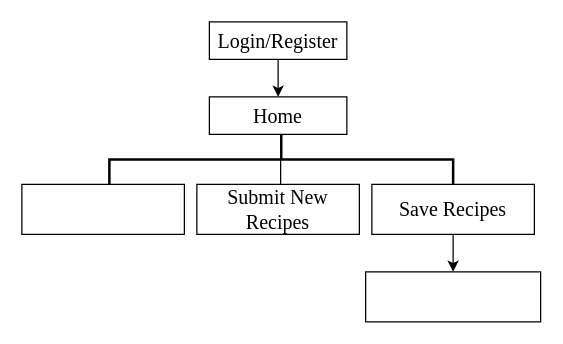
The diagram is 563 pixels wide and 344 high, and some of its shapes have lost their labels. The box of each missing label's shape, as (x1, y1, x2, y2) in pixels:
View Latest Recipes: (21, 183, 184, 234)
View Saved Recipes: (364, 271, 541, 322)
